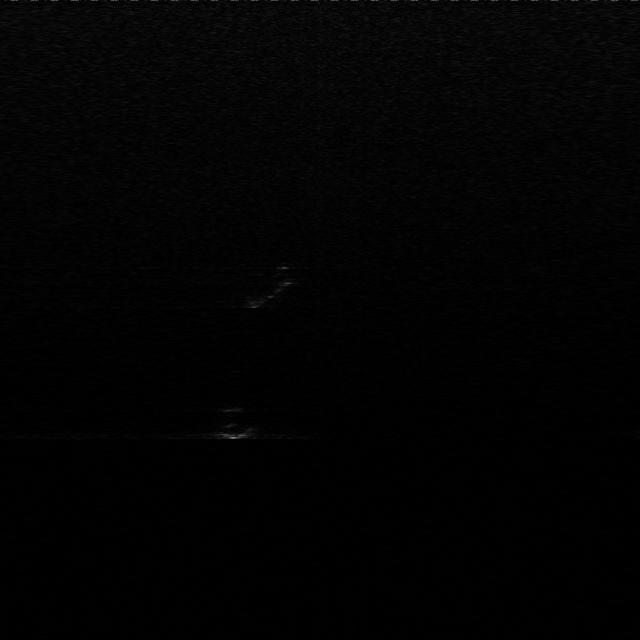ball: (202, 399, 267, 443)
tyre: (237, 260, 306, 312)
